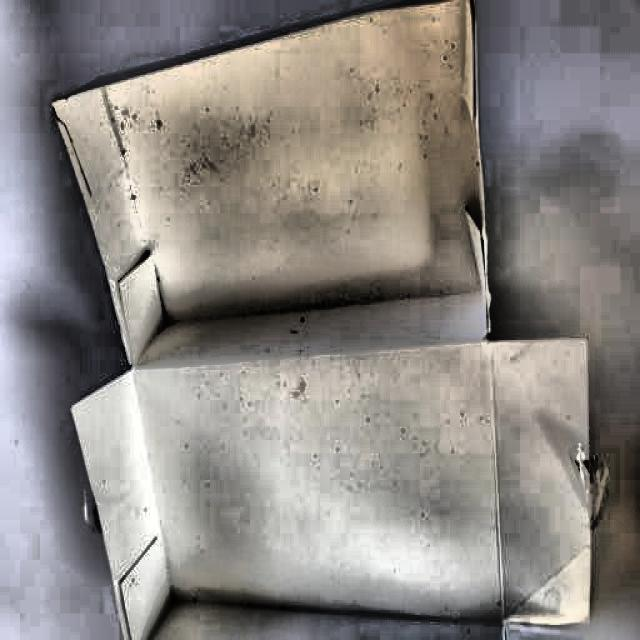paper: (48, 9, 606, 640)
